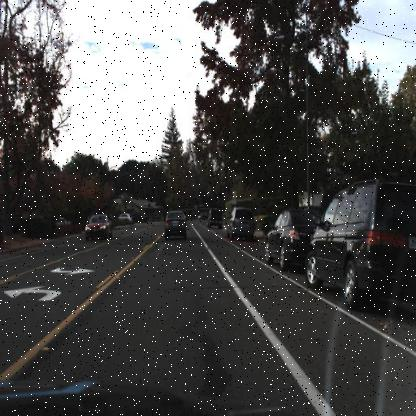car: (305, 180, 416, 317), (262, 204, 314, 272), (226, 209, 258, 245), (162, 207, 187, 238), (84, 215, 111, 241), (209, 202, 225, 228)
